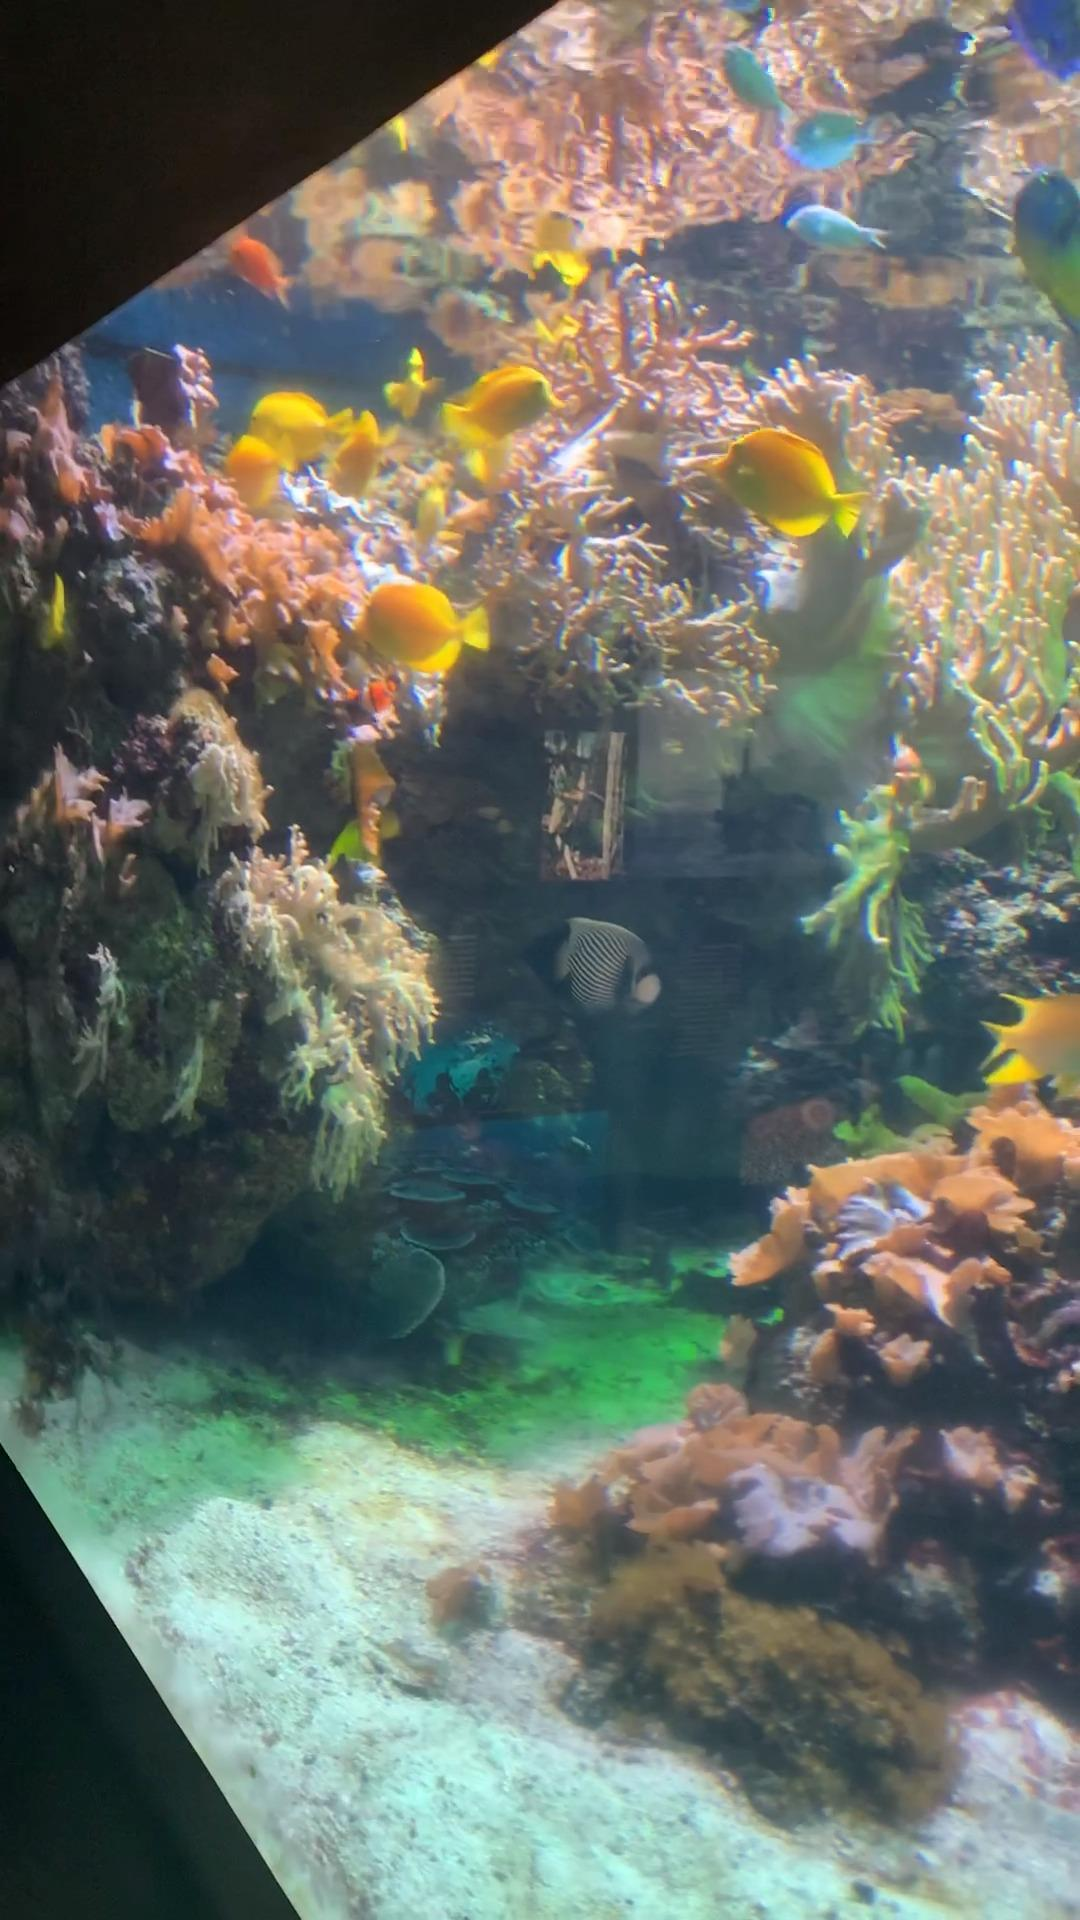fish: (709, 425, 873, 553), (348, 575, 491, 688), (520, 915, 667, 1023), (443, 361, 570, 469), (1007, 167, 1080, 353), (975, 978, 1080, 1105), (338, 732, 417, 870), (248, 386, 352, 476), (323, 407, 394, 509), (224, 429, 297, 517), (787, 203, 887, 265), (382, 342, 454, 429), (719, 44, 793, 125), (781, 111, 877, 173), (525, 200, 584, 287), (232, 235, 294, 310)
